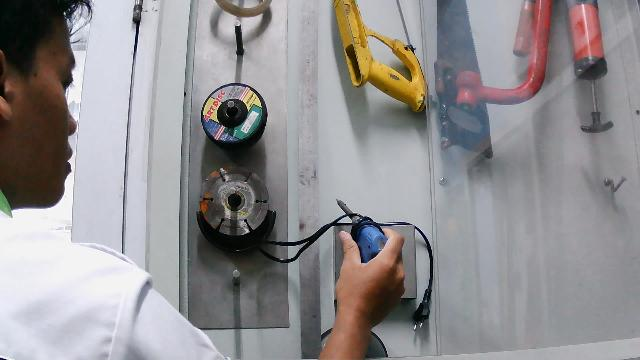solder_electrical: (307, 196, 444, 335)
